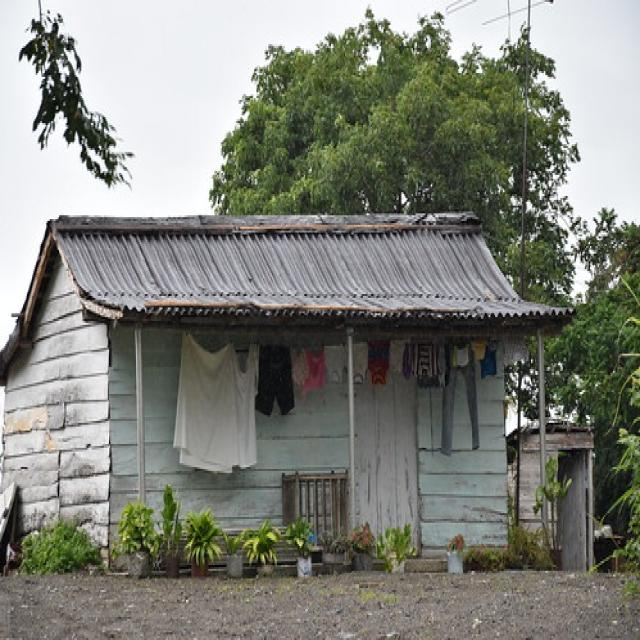Normal_building: (2, 198, 580, 578)
